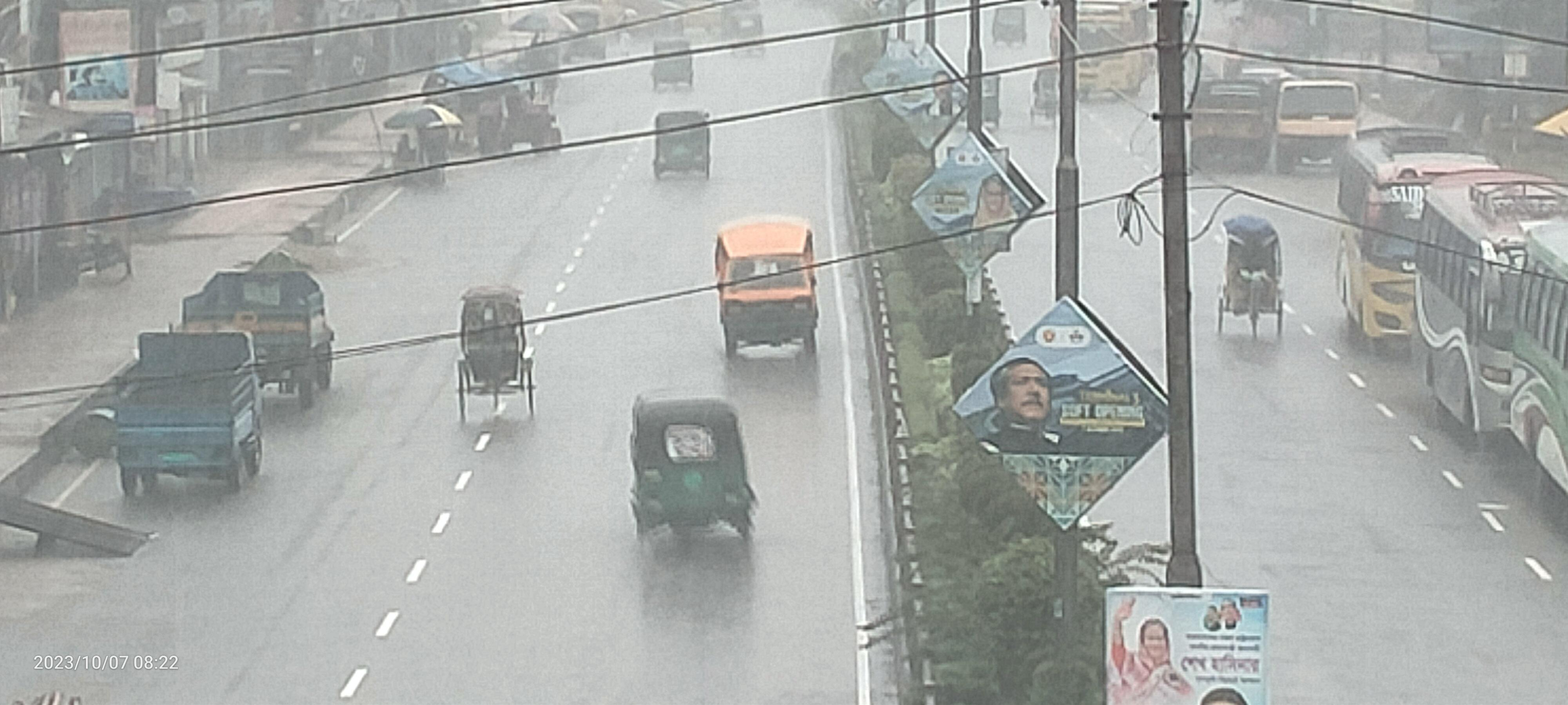Bus: (1303, 107, 1518, 373), (1394, 147, 1568, 464), (1505, 199, 1568, 531), (1035, 0, 1157, 116)
Car: (696, 191, 864, 384), (430, 260, 560, 451), (1187, 177, 1309, 354), (1022, 42, 1098, 141)
Truck: (77, 309, 312, 498), (155, 235, 370, 418), (1154, 44, 1279, 186), (1250, 61, 1363, 182)
